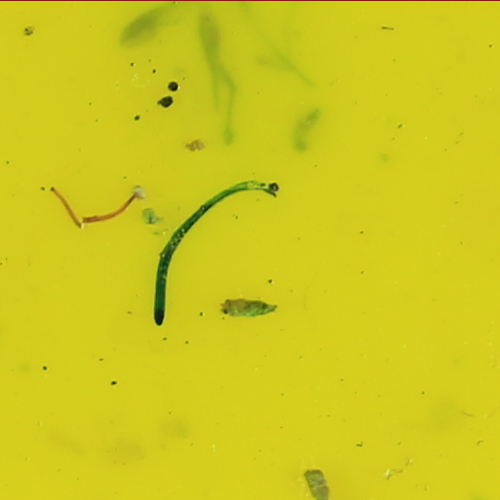Glycaspis: (217, 296, 284, 318)
